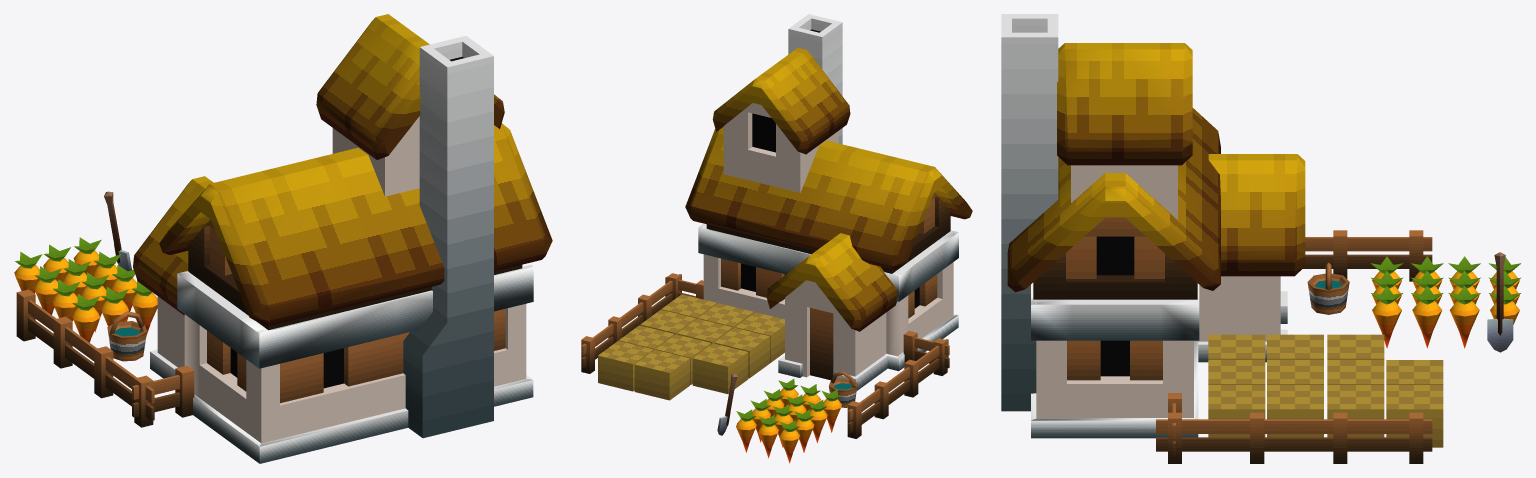
The model's file is farm_lvl5.fbx.
3 views of the same model, side by side, from view 1: azimuth 30°, elevation 25°; view 2: azimuth 150°, elevation 25°; view 3: azimuth 270°, elevation 25° (orthographic). The views are drawn at different scales.
Parts seen in each view (by area): view 1: farm_lvl5.001; view 2: farm_lvl5.001; view 3: farm_lvl5.001.
Boxes of the visible parts, x1,y1,x2,y2 form: farm_lvl5.001: (14, 14, 552, 463); farm_lvl5.001: (581, 14, 972, 463); farm_lvl5.001: (1001, 14, 1520, 463).
Bounding box in the file's own units: 0.6432 × 0.6067 × 0.7303.
